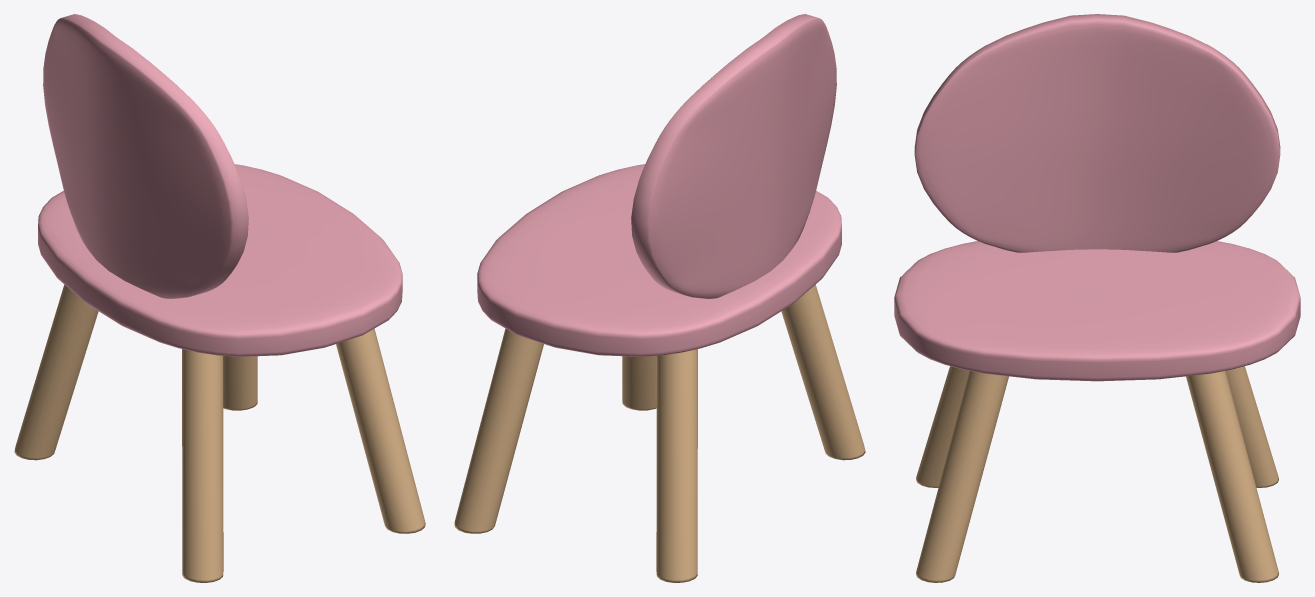
File: MSH_Ludoteca_Silla.fbx
3 views of the same model, side by side, from view 1: azimuth 30°, elevation 25°; view 2: azimuth 150°, elevation 25°; view 3: azimuth 270°, elevation 25° (orthographic). The views are drawn at different scales.
Visible parts, largest first — view 1: MSH_Ludoteca_Silla; view 2: MSH_Ludoteca_Silla; view 3: MSH_Ludoteca_Silla.
Part boxes in pixels (x1=…): MSH_Ludoteca_Silla: x1=14, y1=14, x2=425, y2=582; MSH_Ludoteca_Silla: x1=454, y1=14, x2=865, y2=582; MSH_Ludoteca_Silla: x1=894, y1=14, x2=1300, y2=582.
Bounding box in the file's own units: 39.61 × 66.73 × 53.63.
